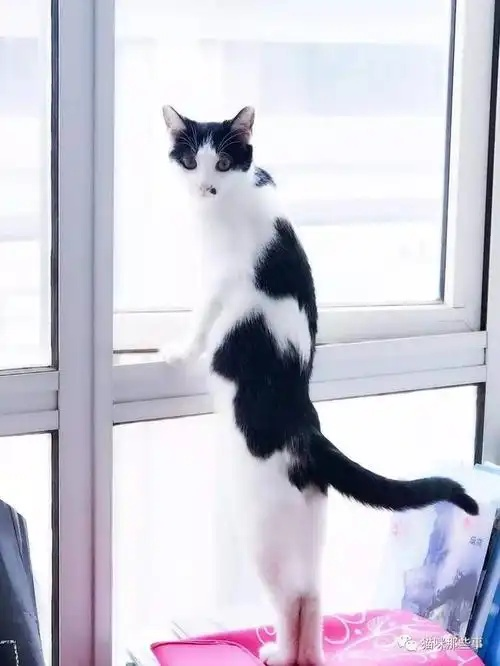奶牛猫: (164, 105, 326, 490), (212, 313, 478, 514)
